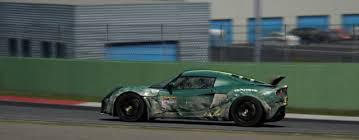doorouter-dent: (165, 92, 208, 119)
fender-dent: (116, 88, 156, 101)
quaterpanel-dent: (238, 87, 276, 107)
